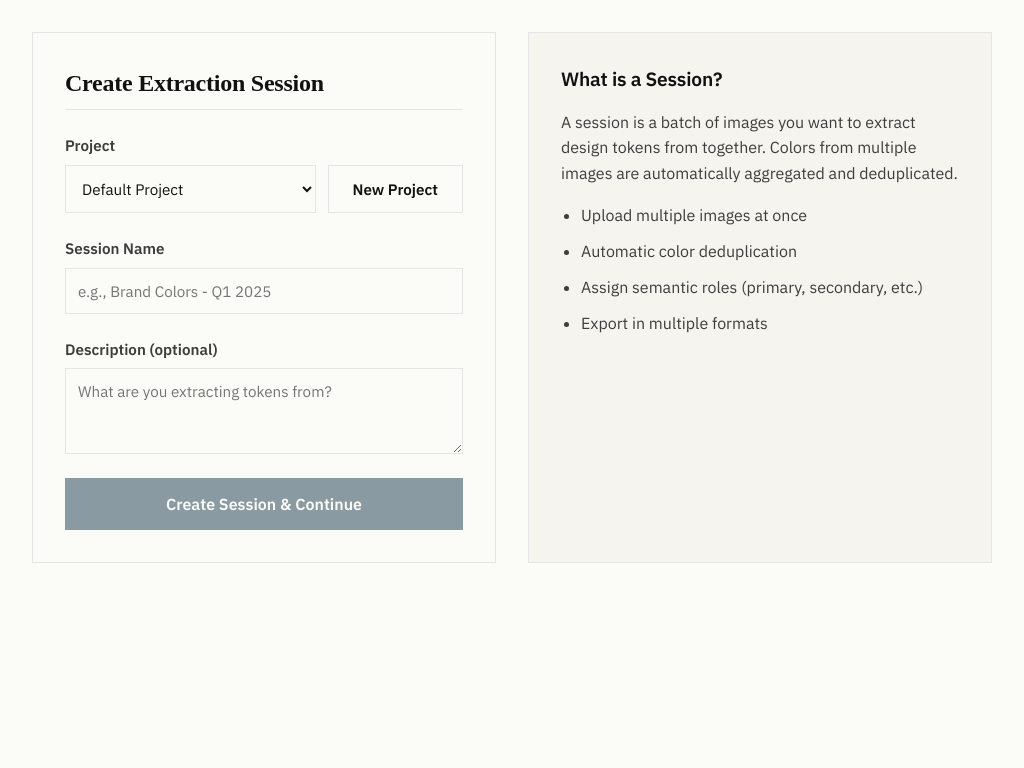
Test case: SessionCreator › enables create button when session name is filled
This screenshot has width=1024, height=768.
Type "My Test Session" into the field with placeholder "e.g., Brand Colors - Q1 2025" at (264,291), box left=65, top=268, right=463, bottom=314
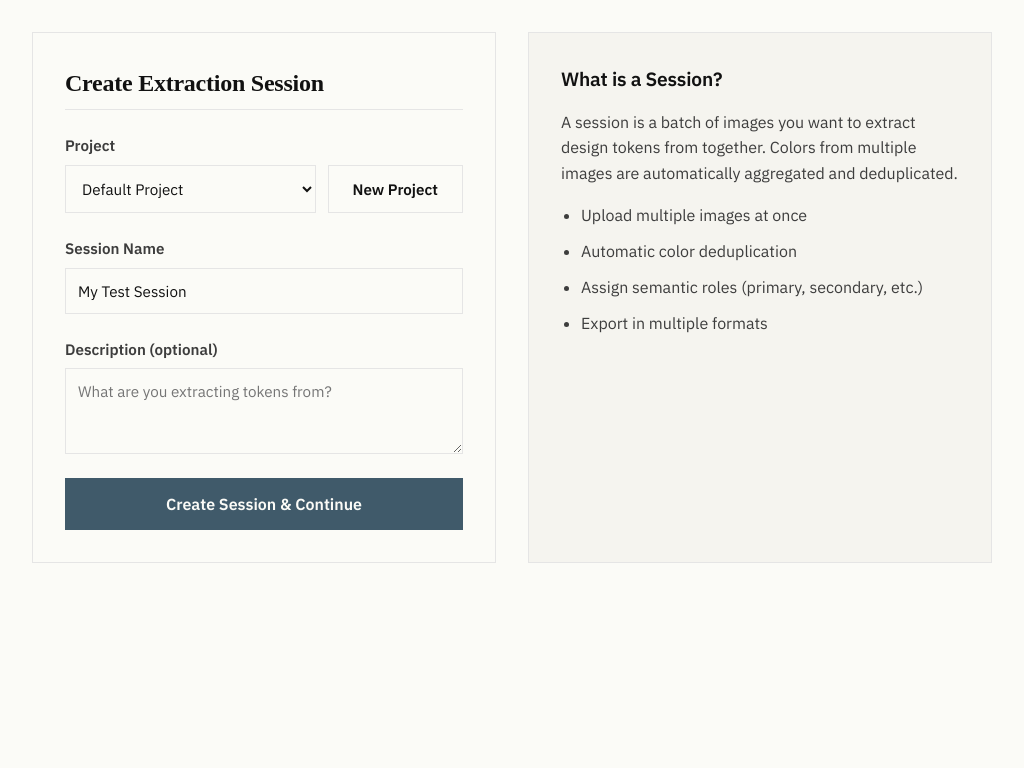
Expected: the button "Create Session & Continue" is enabled, left=65, top=478, right=463, bottom=530
